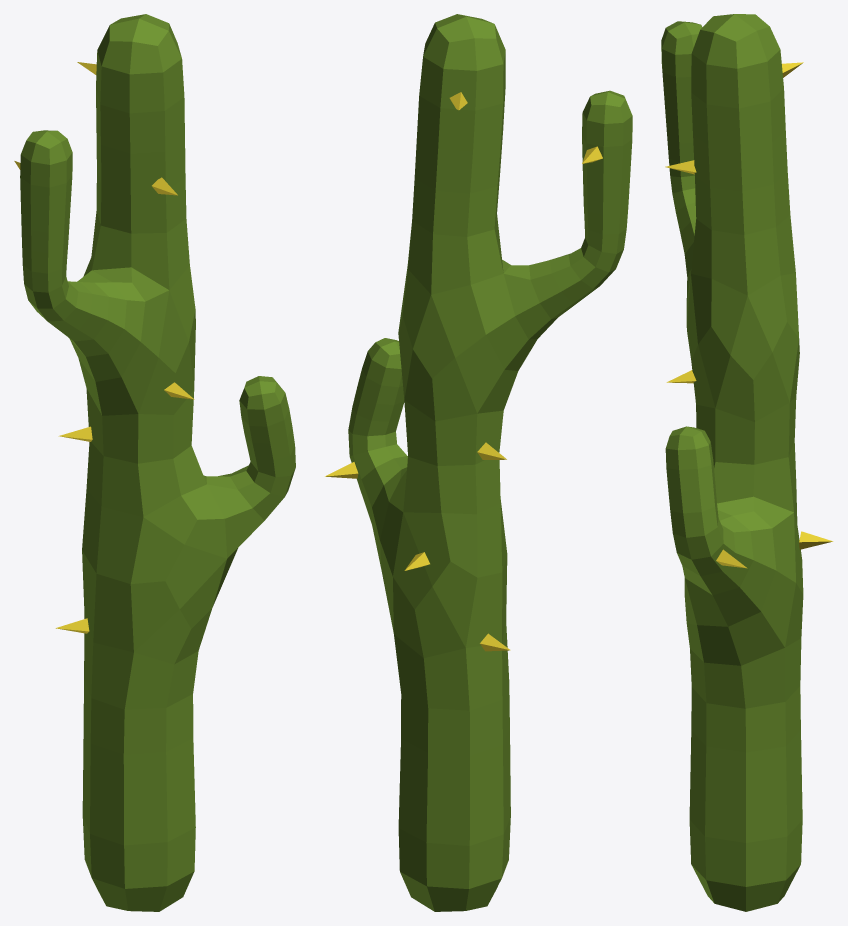
Rendered from KaktusUji10.glb.
The picture shows the model from 3 angles, left to right: view 1: azimuth 30°, elevation 25°; view 2: azimuth 150°, elevation 25°; view 3: azimuth 270°, elevation 25°; orthographic projection.
Visible parts, largest first — view 1: Plane; view 2: Plane; view 3: Plane.
Boxes of the visible parts, x1,y1,x2,y2 form: Plane: (20, 14, 295, 911); Plane: (348, 14, 632, 911); Plane: (661, 14, 803, 911).
Bounding box in the file's own units: 0.1791 × 0.5579 × 0.098.
